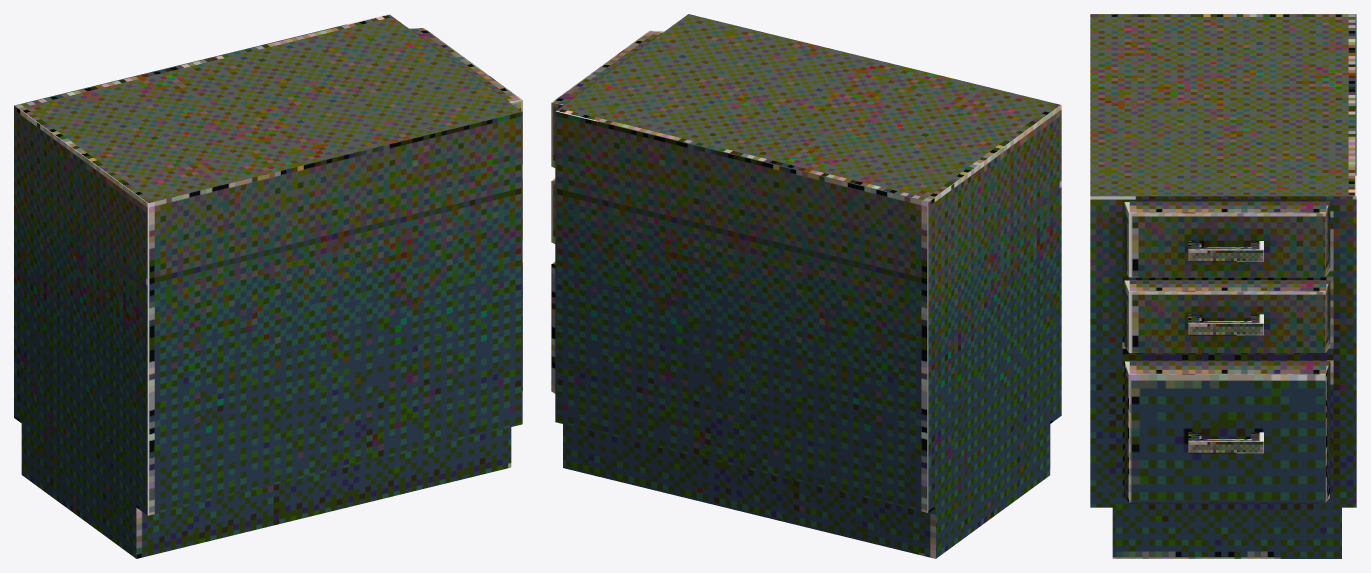
Rendered from Cajonera_Chica.fbx.
3 renders of one model, left to right at view 1: azimuth 30°, elevation 25°; view 2: azimuth 150°, elevation 25°; view 3: azimuth 270°, elevation 25°, orthographic.
Visible parts, largest first — view 1: Archivero_Bajo2; view 2: Archivero_Bajo2; view 3: Archivero_Bajo2.
Part boxes in pixels (<box>): Archivero_Bajo2: <box>14,14,522,558</box>; Archivero_Bajo2: <box>551,14,1061,558</box>; Archivero_Bajo2: <box>1090,14,1356,558</box>.
Bounding box in the file's own units: 3.62 × 3.05 × 2.03.
